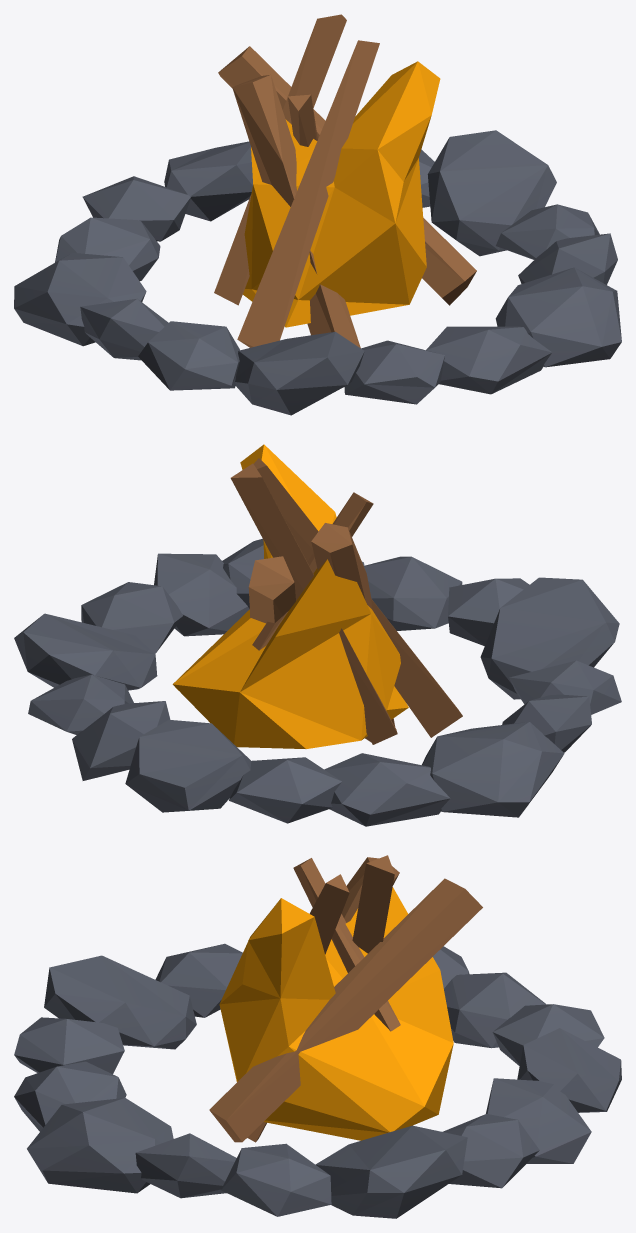
Rendered from Fire.fbx.
3 renders of one model, top to bottom at view 1: azimuth 30°, elevation 25°; view 2: azimuth 150°, elevation 25°; view 3: azimuth 270°, elevation 25°, orthographic. The views are drawn at different scales.
Visible parts, largest first — view 1: Fire; view 2: Fire; view 3: Fire.
Part boxes in pixels (x1,y1,x2,y2): Fire: [14, 14, 621, 415]; Fire: [14, 444, 621, 826]; Fire: [14, 855, 621, 1218].
Bounding box in the file's own units: 116 × 63.75 × 114.
